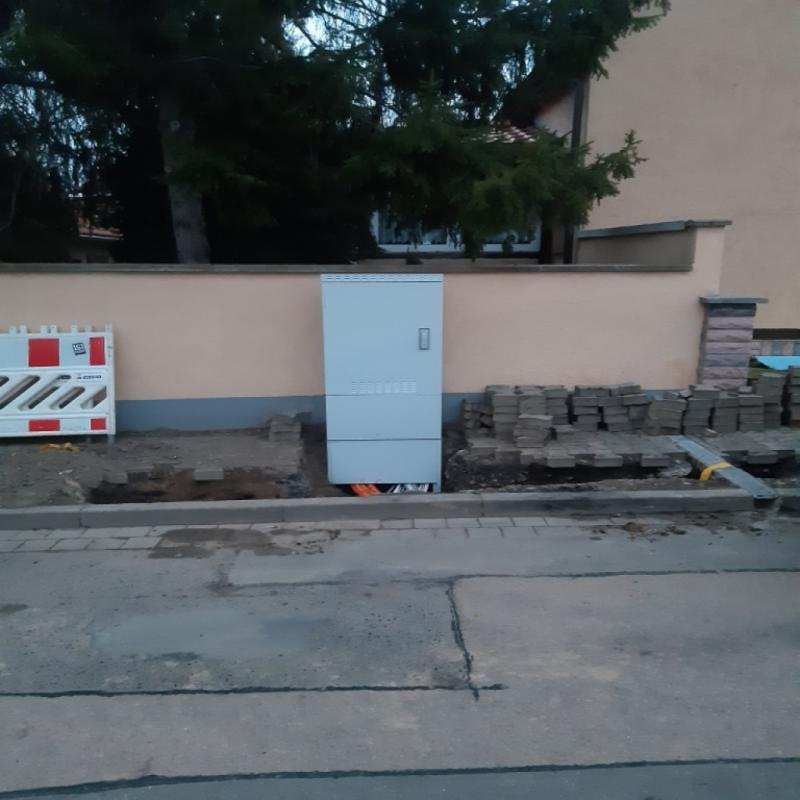NT-Gehause: (320, 270, 447, 488)
